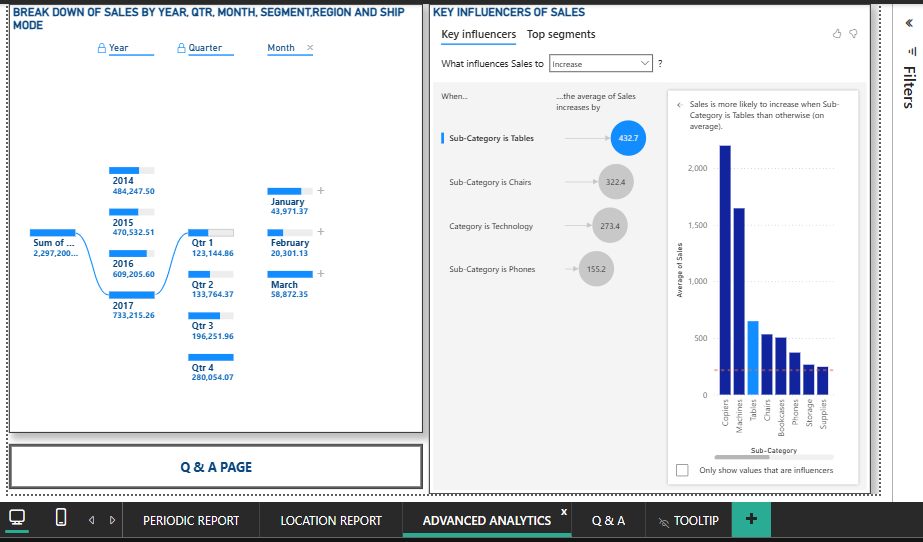

This screenshot's page, from the dashboard's own definition file:
{"tool":"powerbi","page":{"name":"ADVANCED ANALYTICS","canvas":[1280,720],"ordinal":2},"visuals":[{"type":"decompositionTreeVisual","title":"BREAK DOWN OF SALES BY YEAR, QTR, MONTH, SEGMENT,REGION AND SHIP MODE","fields":{"Analyze":["Sum(FACT.Sales)"],"ExplainBy":["Shipping Dimension.Order Date.Variation.Date Hierarchy.Year","Shipping Dimension.Order Date.Variation.Date Hierarchy.Quarter","Shipping Dimension.Order Date.Variation.Date Hierarchy.Month","Customer Dimension.Segment","Shipping Dimension.Ship Mode","Customer Dimension.Region"]},"box":[1.5,0,608.3,630.4],"z":0},{"type":"keyDriversVisual","title":"KEY INFLUENCERS OF SALES","fields":{"Target":["FACT.Sales"],"ExplainBy":["Product Dimension.Category","Product Dimension.Product Name","Product Dimension.Sub-Category"]},"box":[618.6,0,649.5,720],"z":1000},{"type":"actionButton","box":[1.5,646.5,608.3,66.1],"z":2000}]}

Visuals, with their boxes on the page's 1280x720 design canvas (x1, y1, x2, y2). These are canvas units, not pixel positions in the 923x542 screenshot, which may show the page scaled, cropped or inside an application window:
"BREAK DOWN OF SALES BY YEAR, QTR, MONTH, SEGMENT,REGION AND SHIP MODE" decompositionTreeVisual: BBox(2, 0, 610, 630)
"KEY INFLUENCERS OF SALES" keyDriversVisual: BBox(619, 0, 1268, 720)
actionButton: BBox(2, 646, 610, 713)
